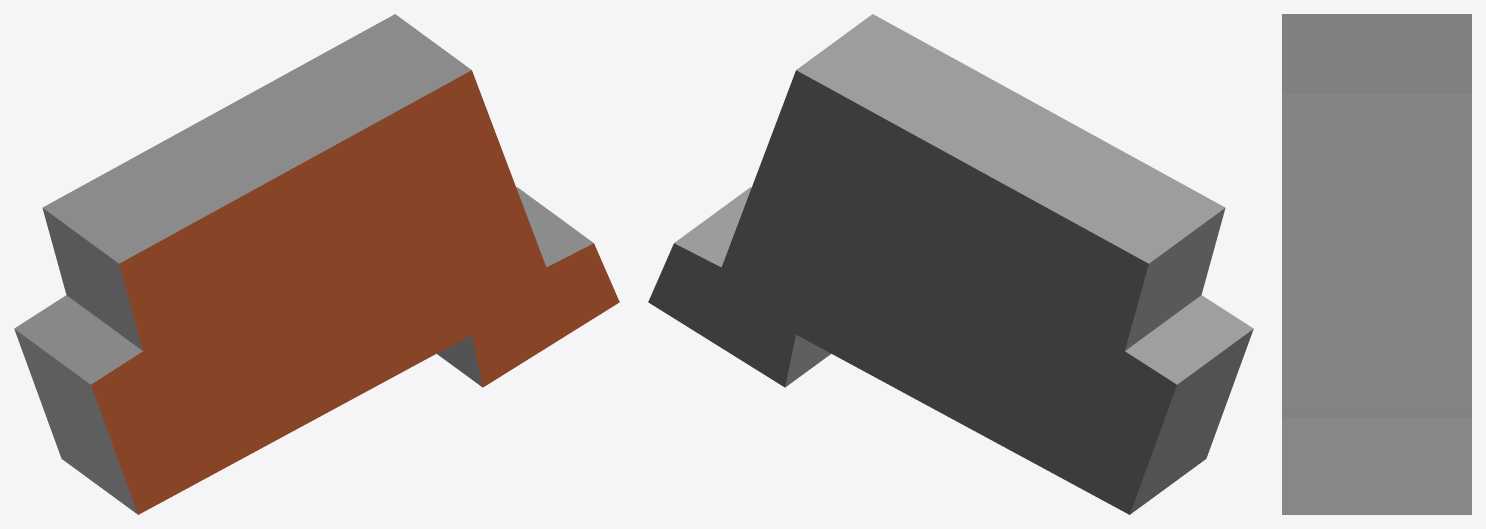
The model's file is construction_5930_assumed_A_Casa_h6m.obj.
The picture shows the model from 3 angles, left to right: view 1: azimuth 30°, elevation 25°; view 2: azimuth 150°, elevation 25°; view 3: azimuth 270°, elevation 25°; orthographic projection. The views are drawn at different scales.
Parts seen in each view (by area): view 1: construction_5930_assumed_A_Casa; view 2: construction_5930_assumed_A_Casa; view 3: construction_5930_assumed_A_Casa.
Part boxes in pixels (x1,y1,x2,y2): construction_5930_assumed_A_Casa: (14,14,619,514); construction_5930_assumed_A_Casa: (648,14,1253,514); construction_5930_assumed_A_Casa: (1282,14,1471,514).
Size of the model in its own units: 23.89 by 15.68 by 6.
